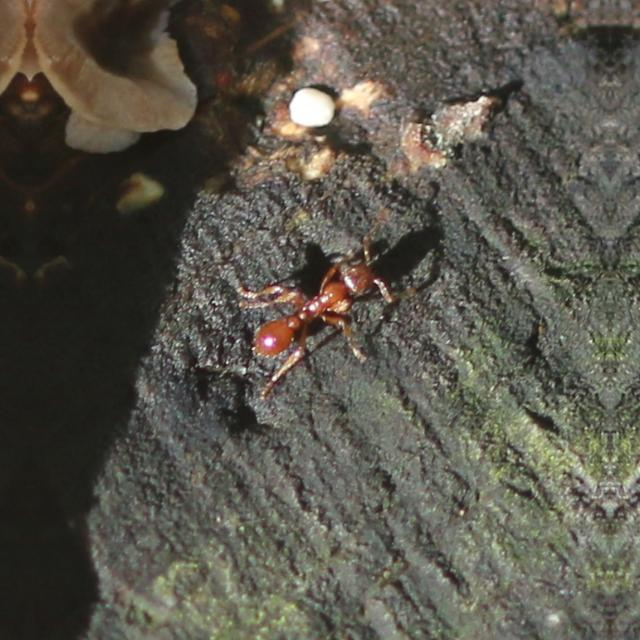Myrmica: (228, 216, 404, 384)
